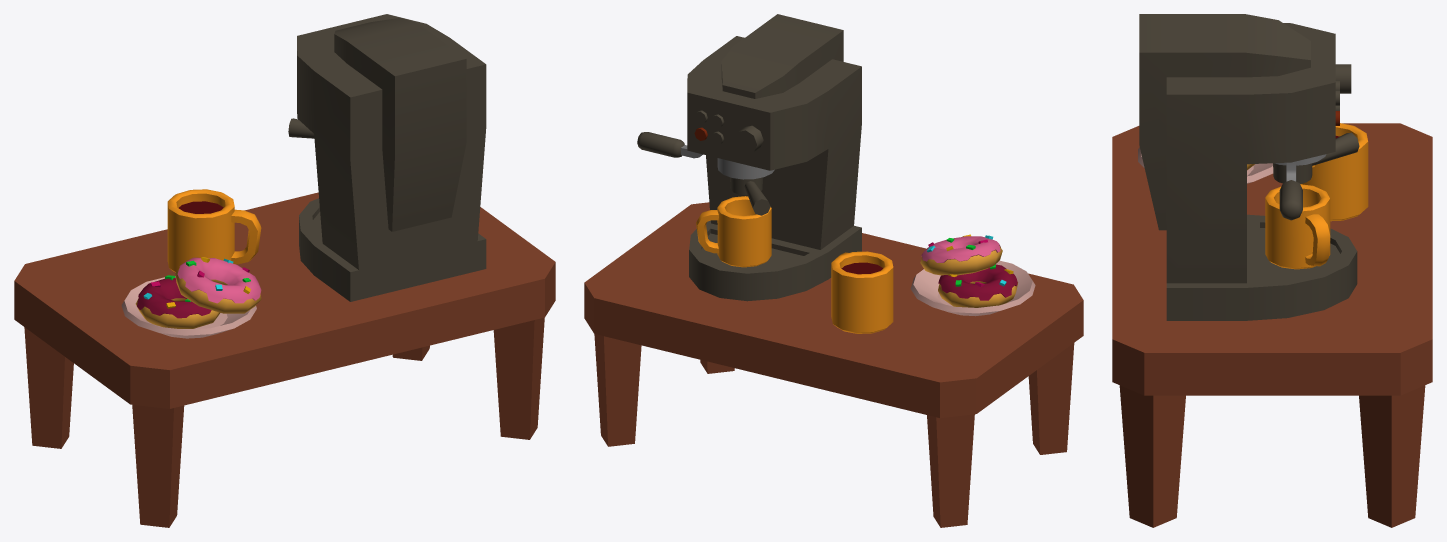
Rendered from Table_LoungeRoom.fbx.
3 views of the same model, side by side, from view 1: azimuth 30°, elevation 25°; view 2: azimuth 150°, elevation 25°; view 3: azimuth 270°, elevation 25° (orthographic). The views are drawn at different scales.
Visible parts, largest first — view 1: Table_LoungeRoom_1, CoffeeMachine_1, DonutsPlate_1, CupCoffee_1; view 2: Table_LoungeRoom_1, CoffeeMachine_1, DonutsPlate_1, CupCoffee_1; view 3: Table_LoungeRoom_1, CoffeeMachine_1, CupCoffee_1, DonutsPlate_1.
Part boxes in pixels (bbox=[...]): Table_LoungeRoom_1: bbox=[14, 192, 555, 527]; CoffeeMachine_1: bbox=[288, 14, 486, 301]; DonutsPlate_1: bbox=[121, 257, 261, 338]; CupCoffee_1: bbox=[167, 189, 261, 272]; Table_LoungeRoom_1: bbox=[584, 202, 1083, 527]; CoffeeMachine_1: bbox=[637, 14, 861, 301]; DonutsPlate_1: bbox=[910, 234, 1035, 316]; CupCoffee_1: bbox=[831, 251, 893, 333]; Table_LoungeRoom_1: bbox=[1112, 123, 1432, 527]; CoffeeMachine_1: bbox=[1139, 14, 1359, 320]; CupCoffee_1: bbox=[1300, 123, 1368, 221]; DonutsPlate_1: bbox=[1138, 147, 1273, 183].
Size of the model in its own units: 175 by 103 by 154.
